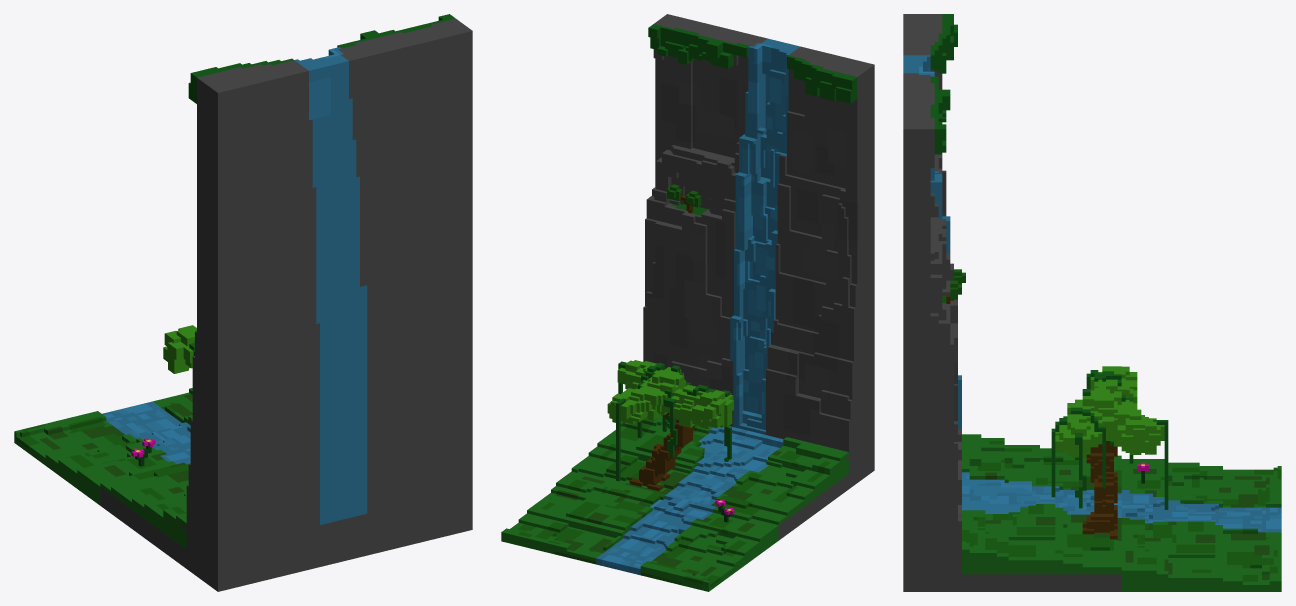
The model's file is river_s_02(act).obj.
The picture shows the model from 3 angles, left to right: view 1: azimuth 30°, elevation 25°; view 2: azimuth 150°, elevation 25°; view 3: azimuth 270°, elevation 25°; orthographic projection. The views are drawn at different scales.
Bounding box in the file's own units: 7 × 13.1 × 9.7.
Materials: 1 (1 with a texture image).
